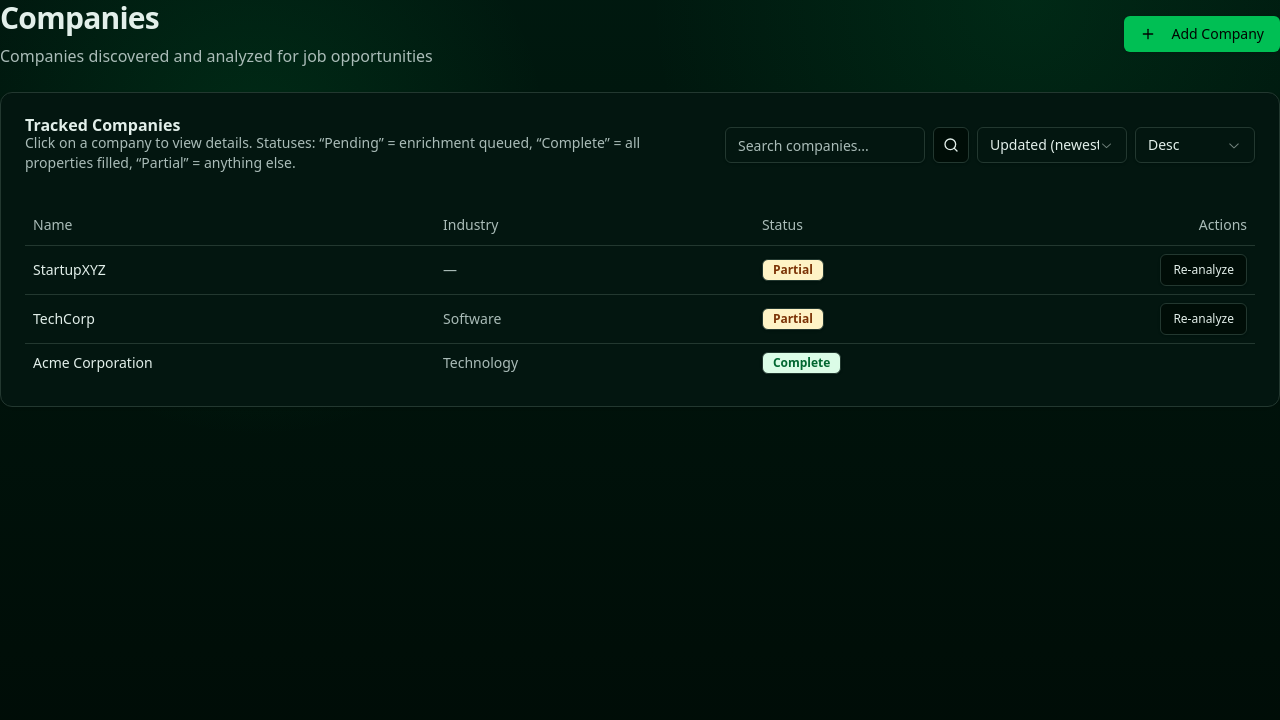
it: CompaniesPage › Detail Modal › should show placeholder when tech stack is empty
This screenshot has width=1280, height=720.
Expected: the text "StartupXYZ" is shown, top-left (33, 260), bottom-right (106, 278)
Step 1. Click the text "StartupXYZ" → (640, 270), box top-left (25, 245), bottom-right (1255, 294)
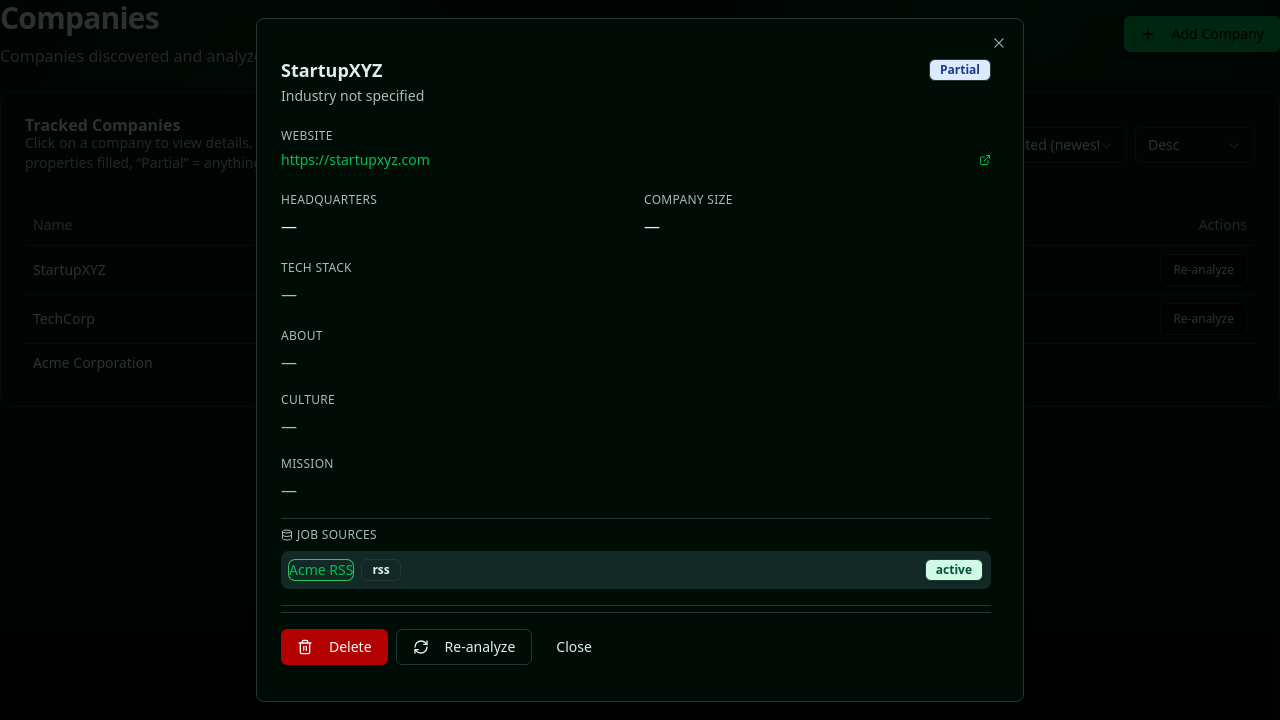
Expected: the text "Tech Stack" shows "—", top-left (281, 282), bottom-right (297, 304)
